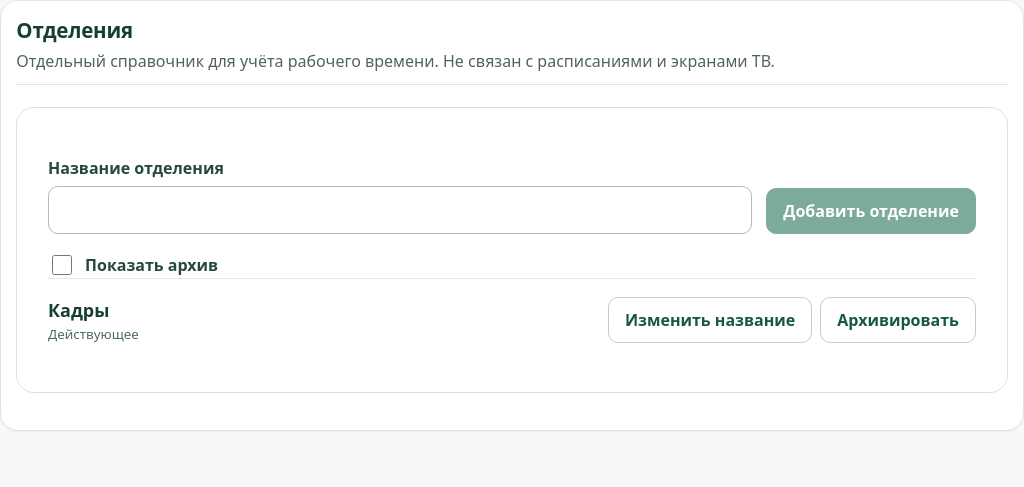
Scenario: creates a department using only the attendance API
Check: the text "Кадры" is shown, box left=48, top=298, right=109, bottom=322
Check: the text "Не связан с расписаниями и экранами ТВ" is shown, box left=16, top=50, right=775, bottom=72
Type "  Бухгалтерия  " into the field labelled "Название отделения" at (400, 210), box left=48, top=186, right=752, bottom=234
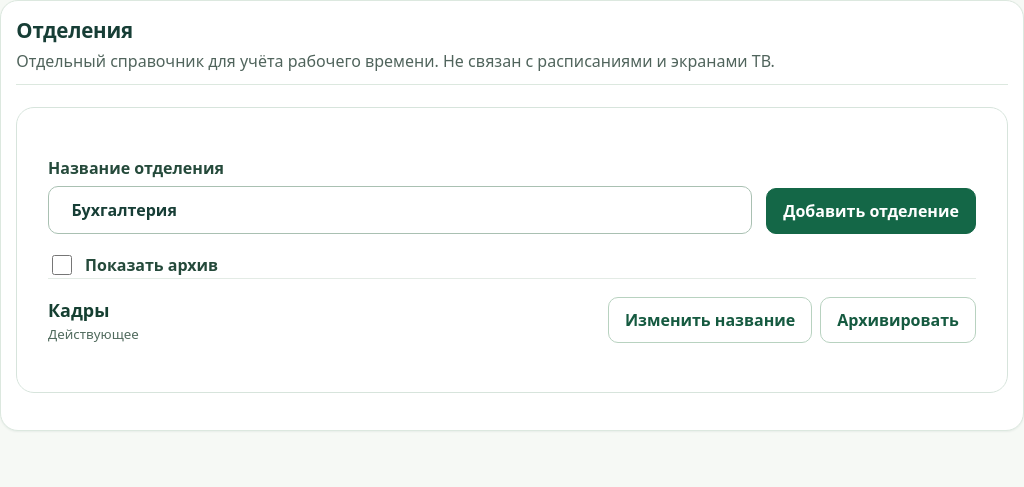
Click the button "Добавить отделение" at (871, 211), box left=766, top=188, right=976, bottom=234
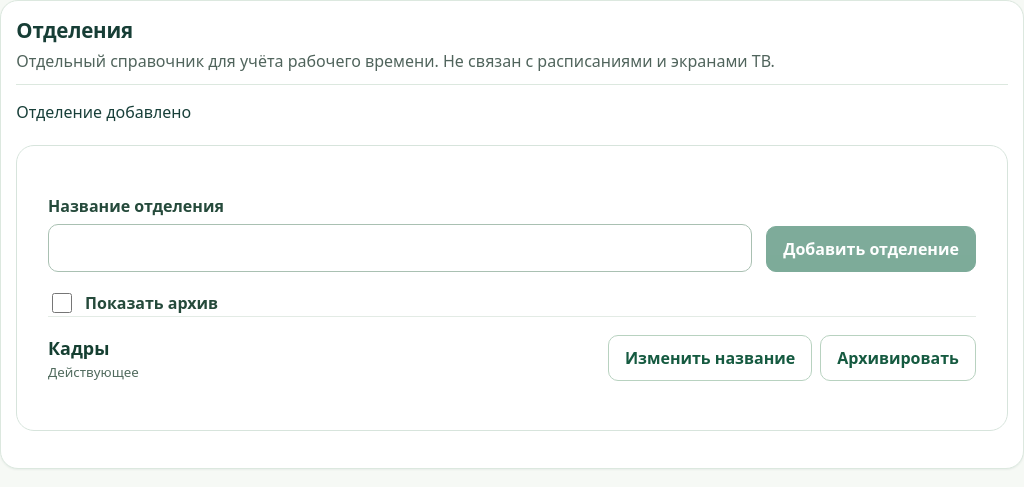
Check: the text "Отделение добавлено" is shown, box left=16, top=101, right=191, bottom=123
